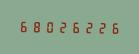eight: (30, 19, 42, 33)
six: (69, 19, 81, 34), (17, 19, 29, 33), (108, 20, 120, 34)
two: (56, 19, 68, 33), (82, 20, 94, 34), (95, 20, 107, 34)
zero: (43, 19, 55, 33)
